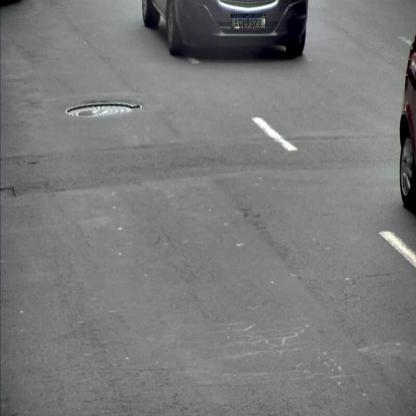PlacaM: (231, 14, 266, 29)
